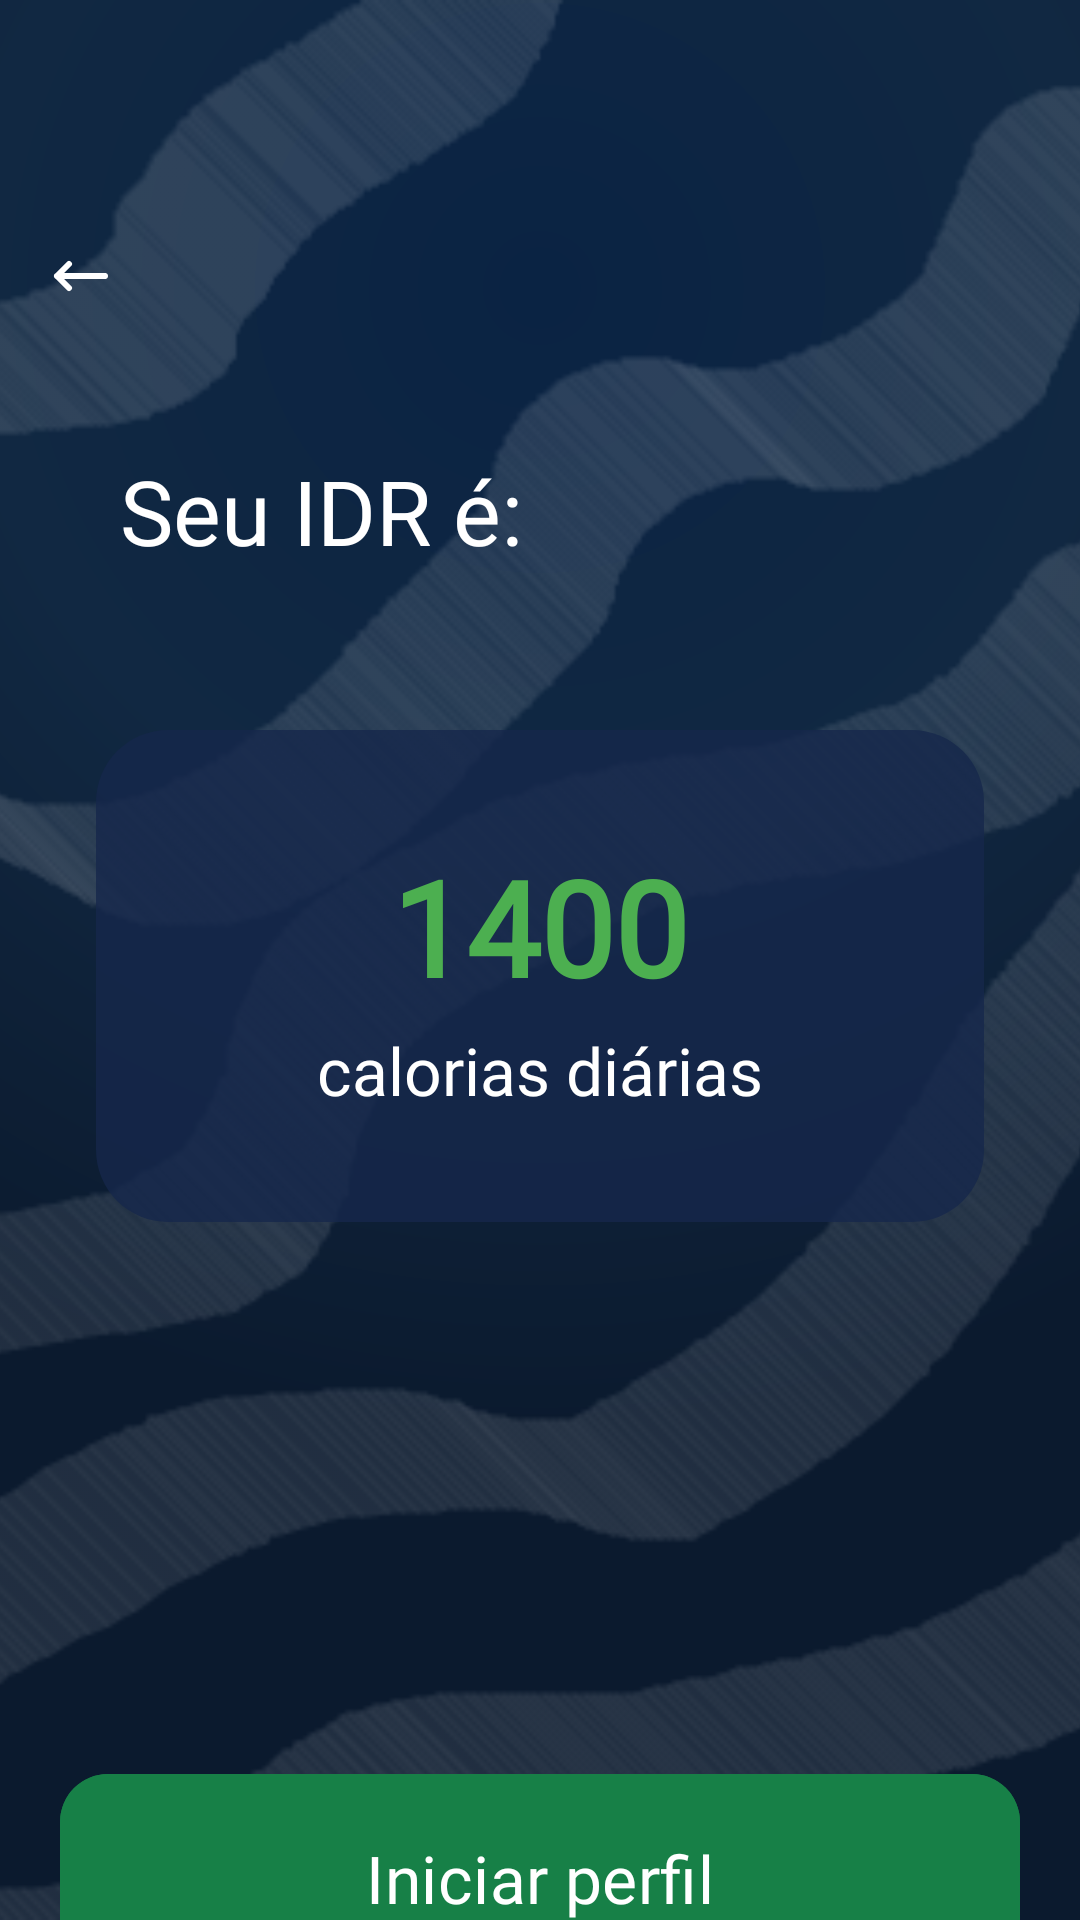

Named icons in this screenshot (1080w x 1920h) and their bounding boxes, (x1, y1, x2, y2):
arrow: (45, 240, 108, 291)
